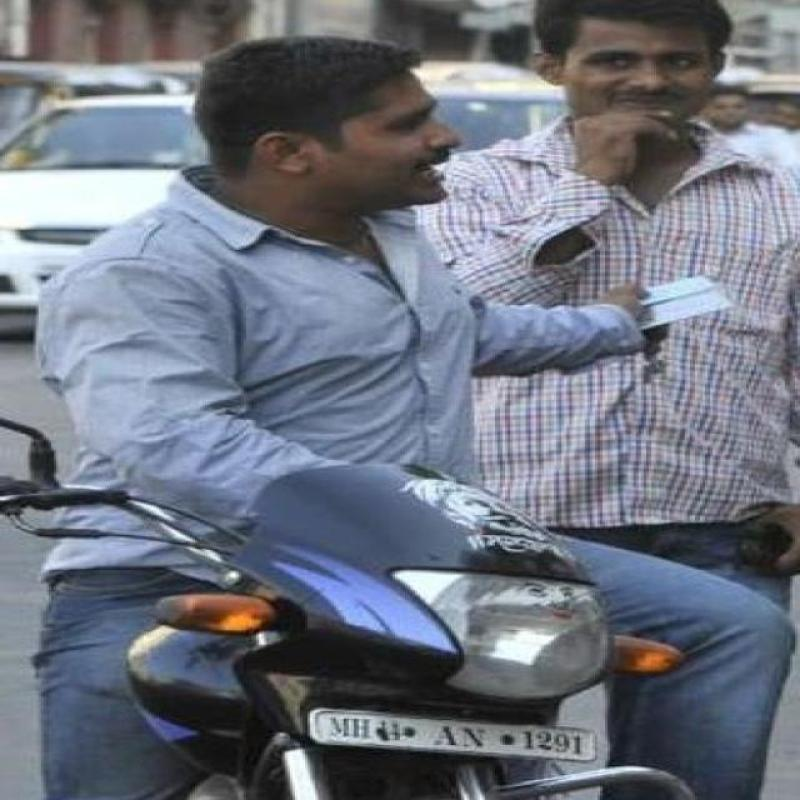nohelmet: (172, 19, 493, 220), (518, 3, 792, 125)
